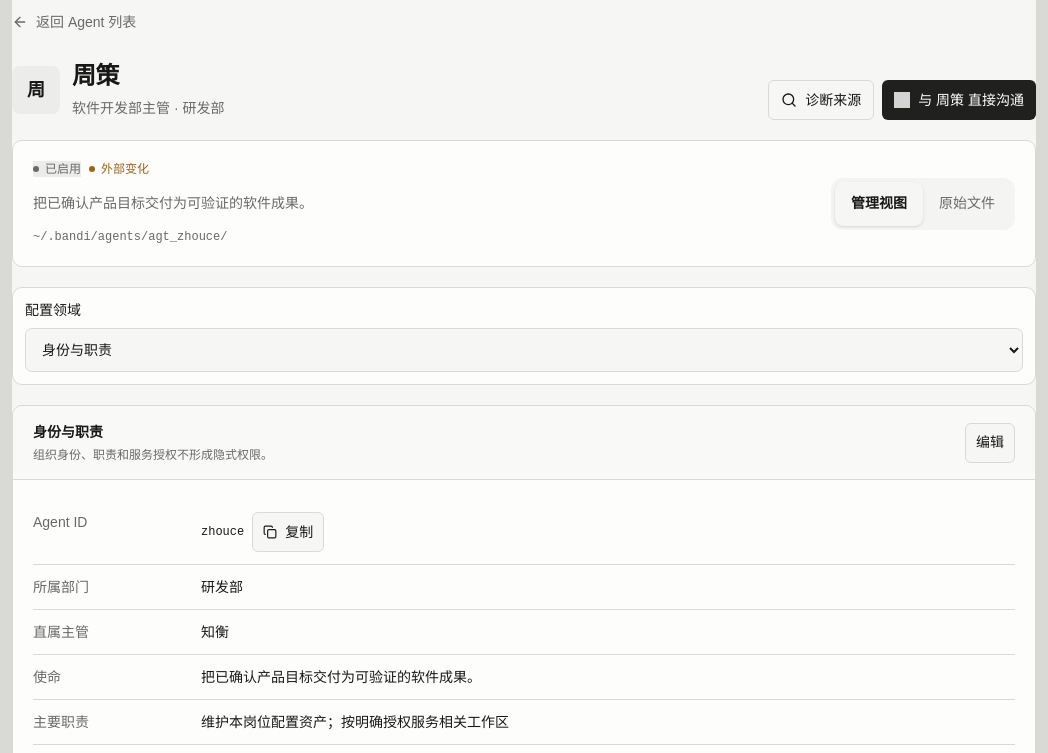
Agent 双模式配置工作台 › 身份编辑阻止低质量名称和重名，并保存裁剪后的名称
Click the button "编辑": click(990, 442) [965,422,1015,462]
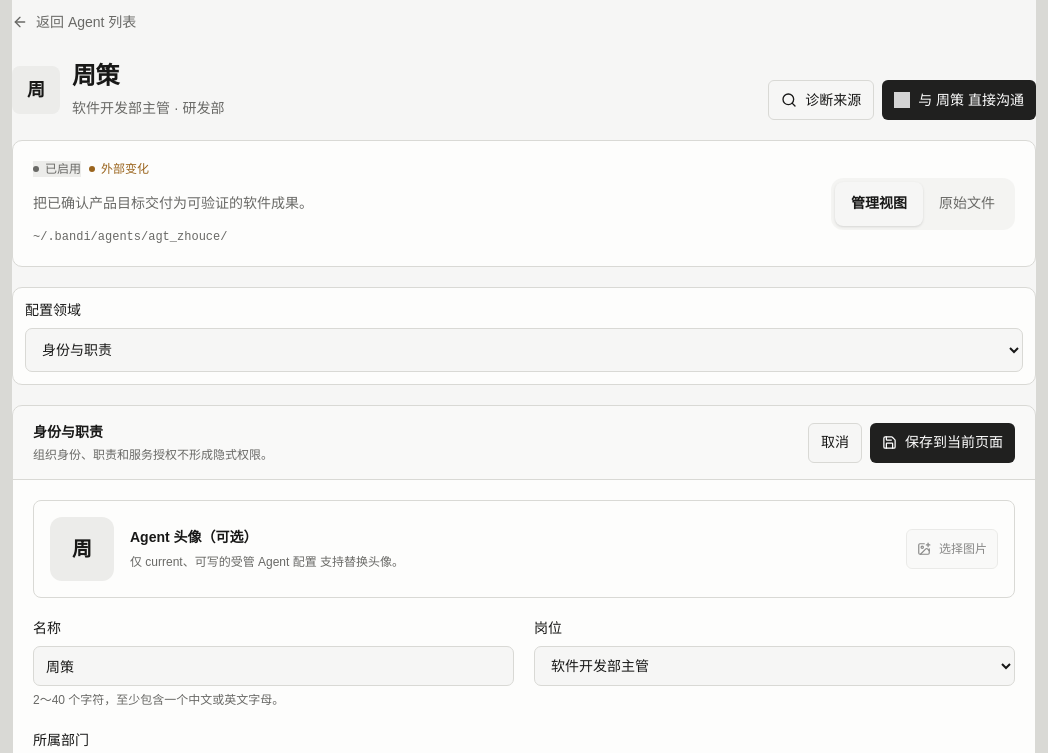
Replace the text in the field showing "周策" with "123456": (274, 666) [33,646,514,686]
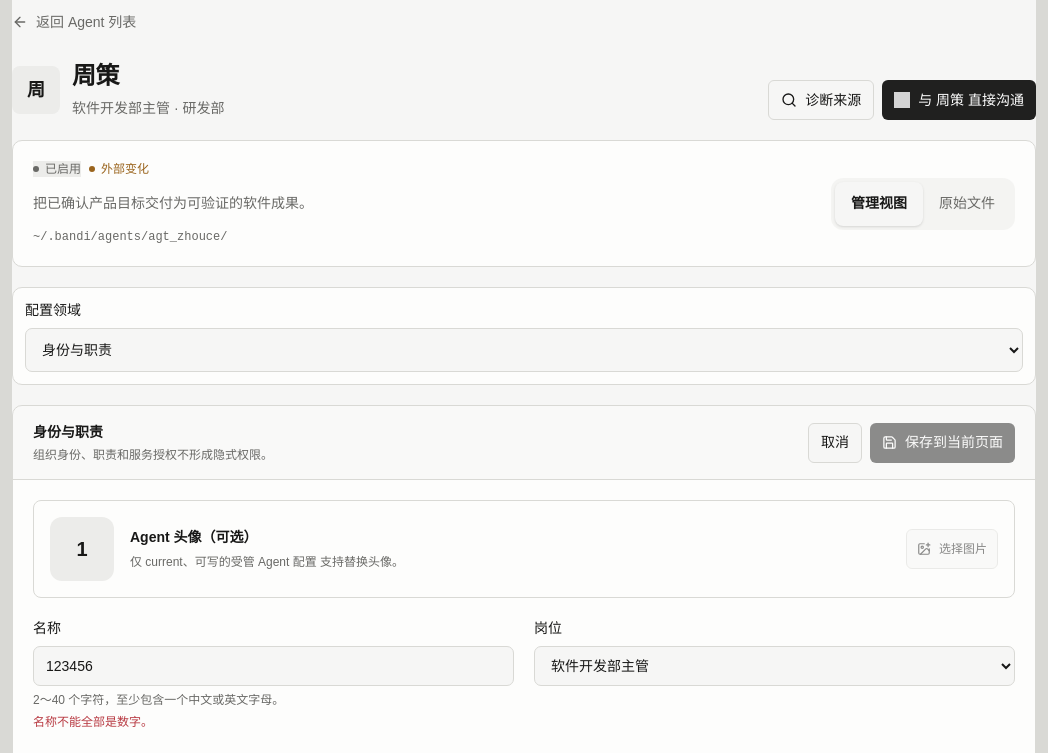
Expected: the text "名称不能全部是数字。" is shown, [33,715,153,729]
Replace the text in the field showing "周策" with "知衡": (274, 666) [33,646,514,686]
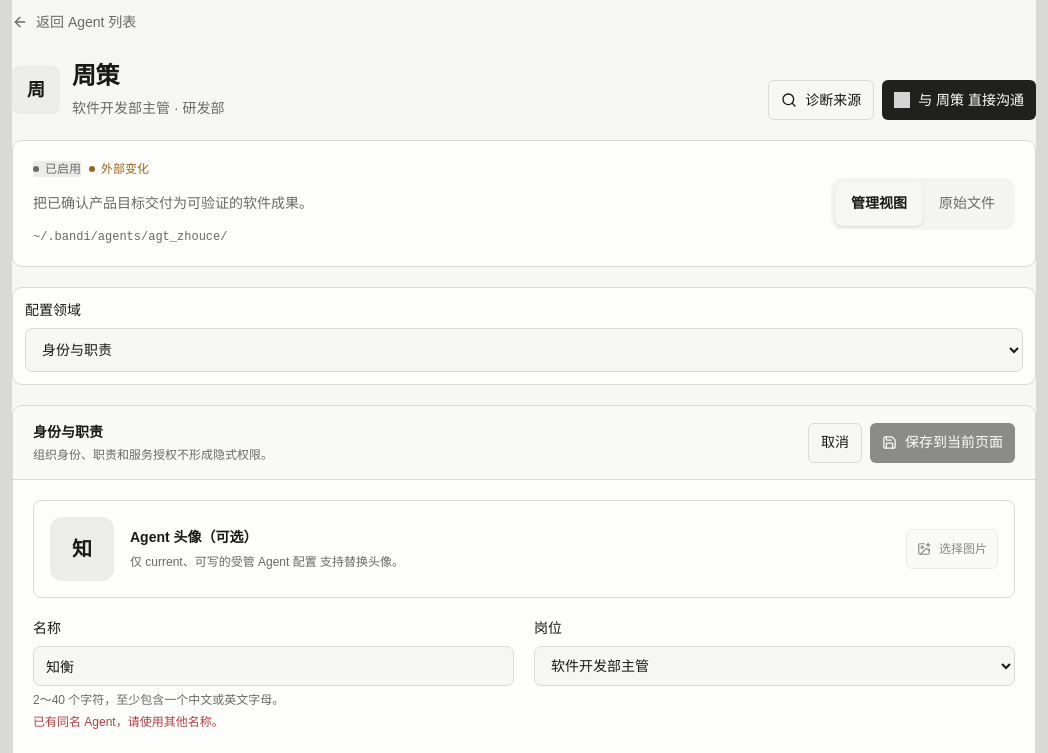
Expected: the text "已有同名 Agent，请使用其他名称。" is shown, [33,715,224,729]
